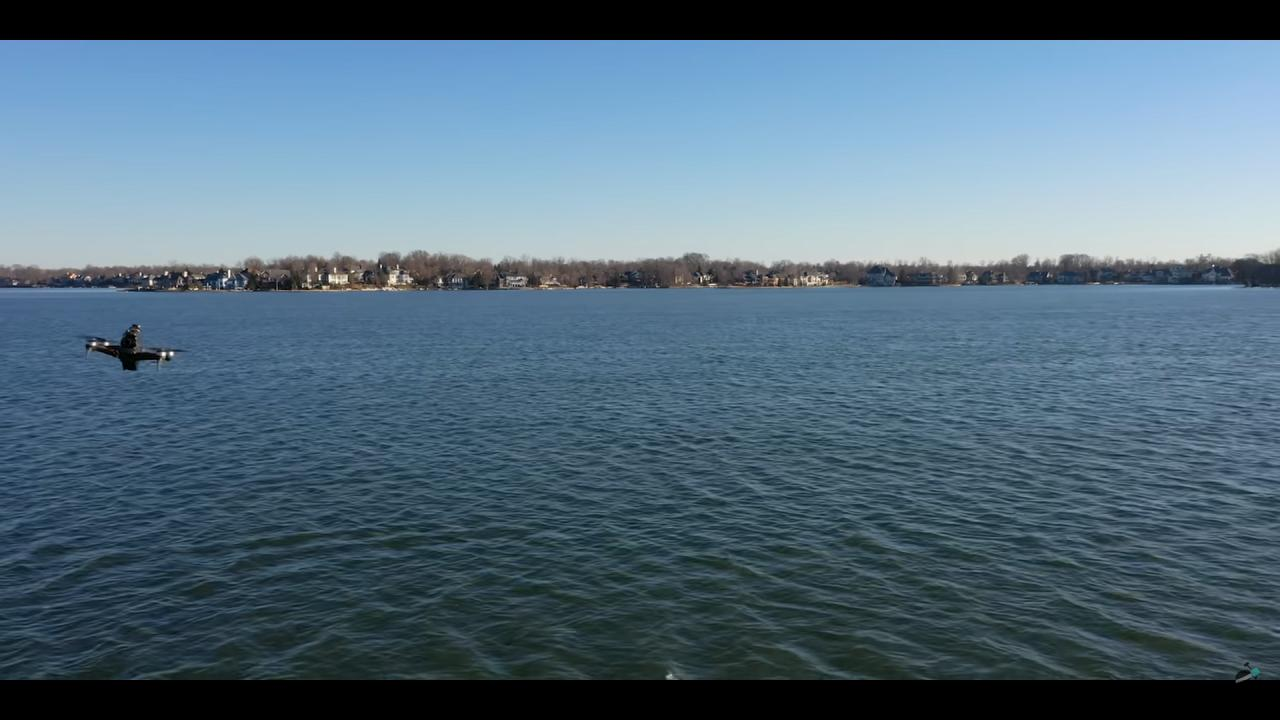Drone: (73, 313, 188, 383)
